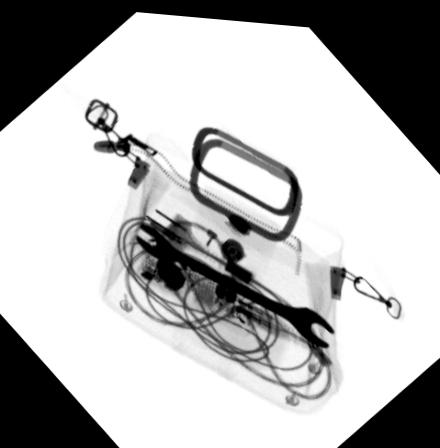Wrench: (131, 218, 337, 345)
